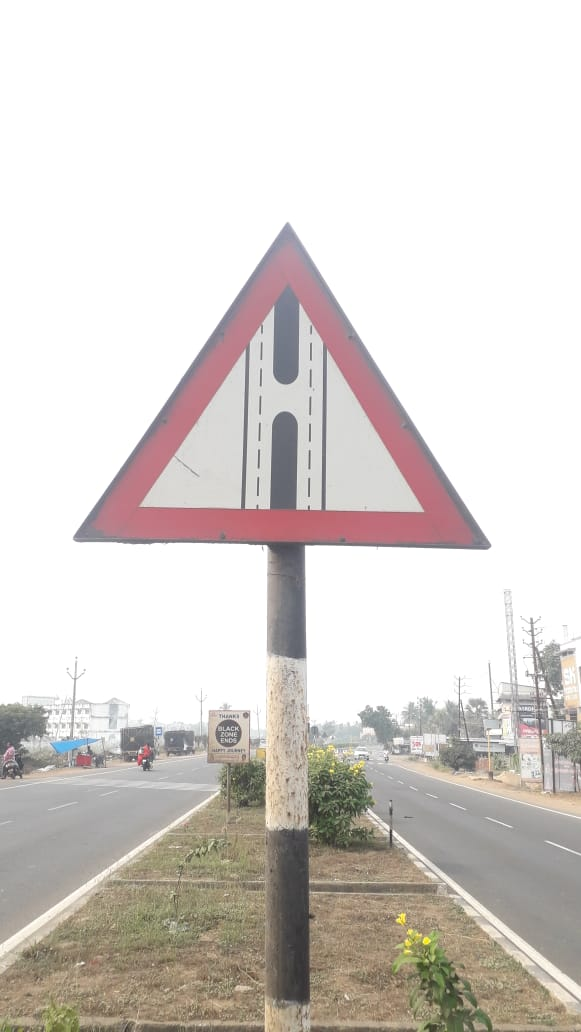highway go straight: (49, 216, 514, 577)
